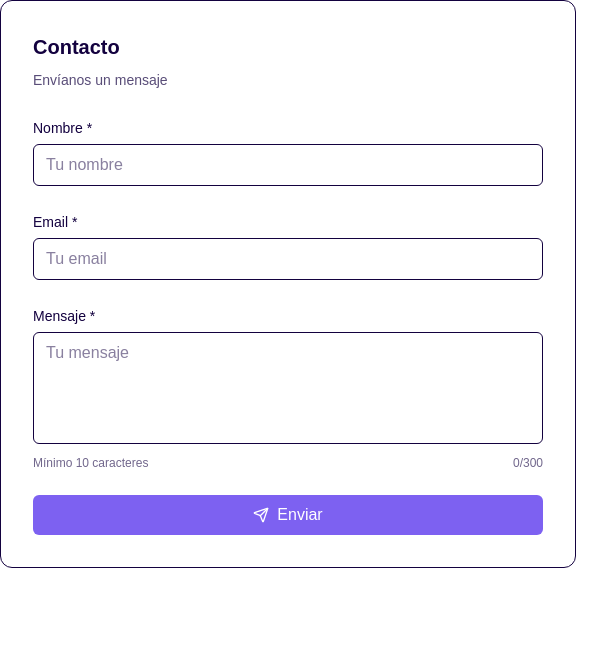
it: ContactForm › errores en submit vacío
Click the button "Enviar" at [288, 515], box [33,495,543,535]
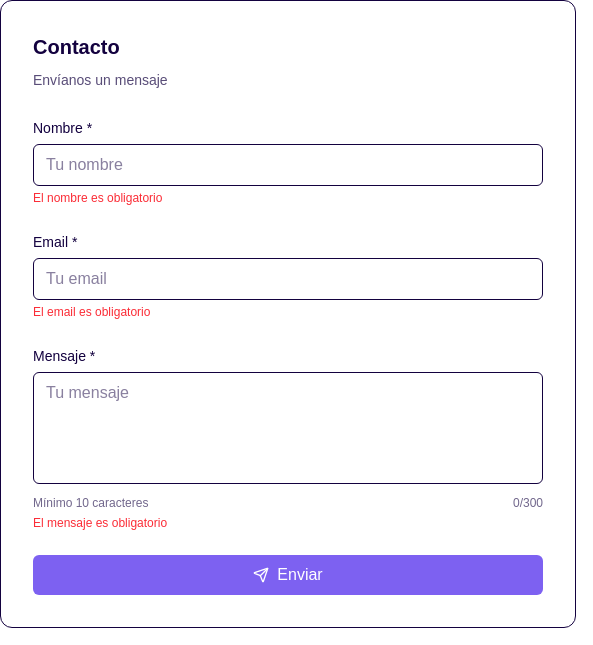
Result: the text "El nombre es obligatorio" is shown at [33,191,162,205]
Result: the text "El email es obligatorio" is shown at [33,305,150,319]
Result: the text "El mensaje es obligatorio" is shown at [33,516,167,530]
